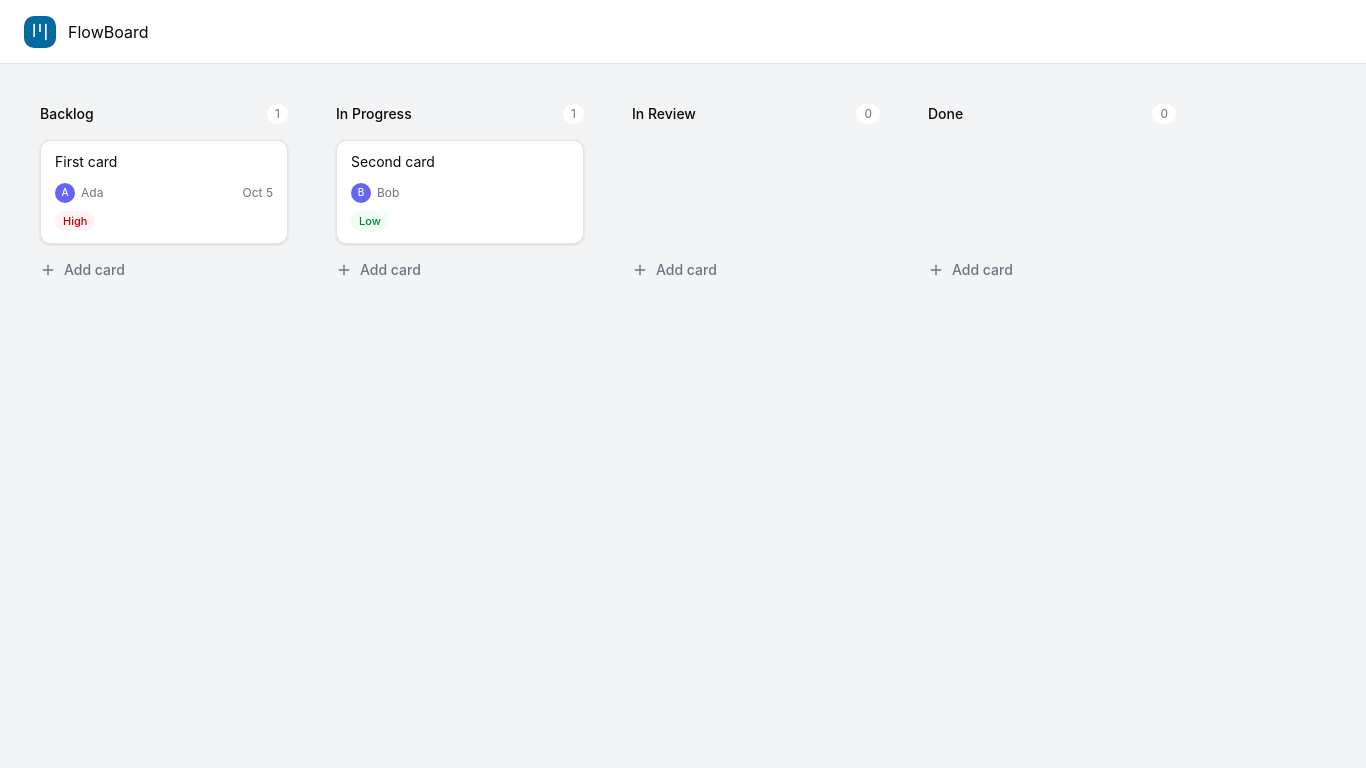
it: App - save card (regression: rollback on failure) › rolls back the edit and shows an error banner when updateCard fails
Click the text "First card" at coordinates (86, 162), box [55,153,118,170]
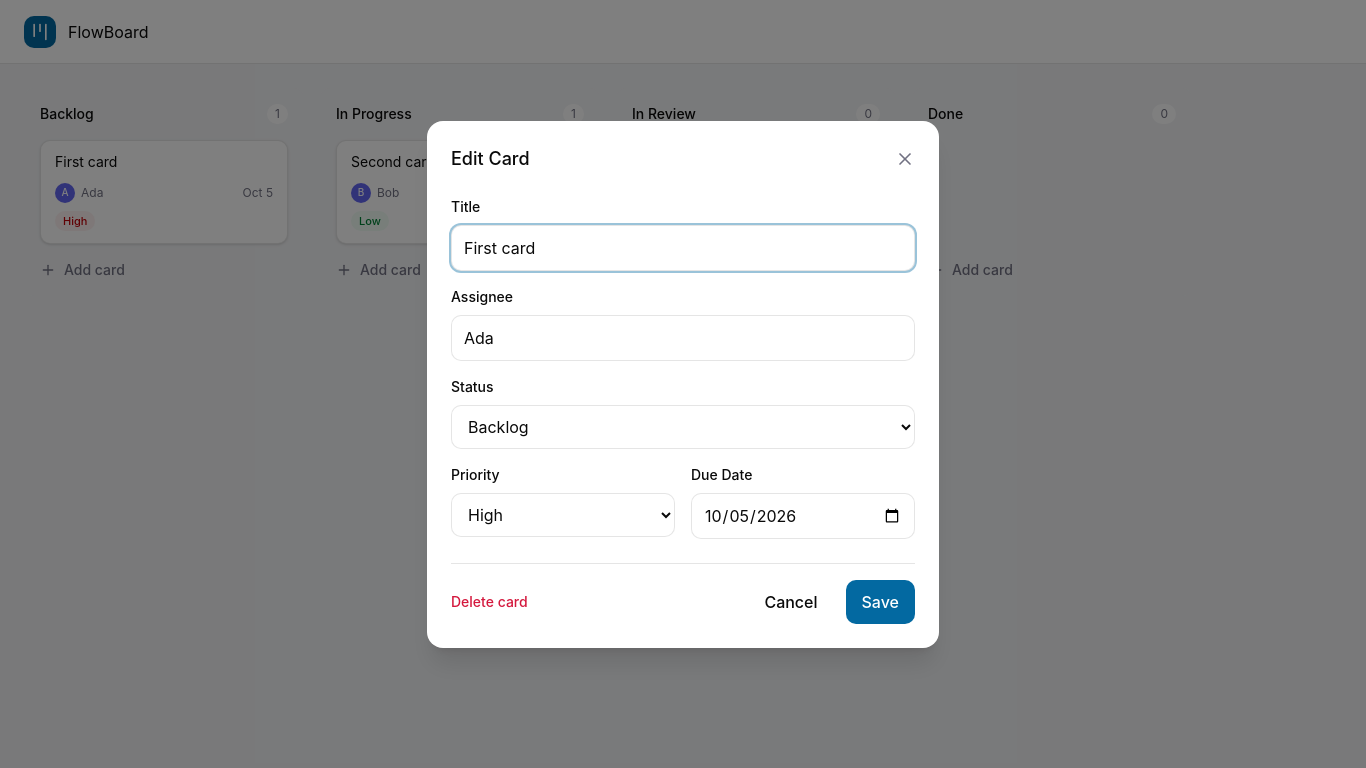
Replace the text in the field with placeholder "Enter card title..." with "Updated title" at coordinates (683, 248), box [451,224,915,270]
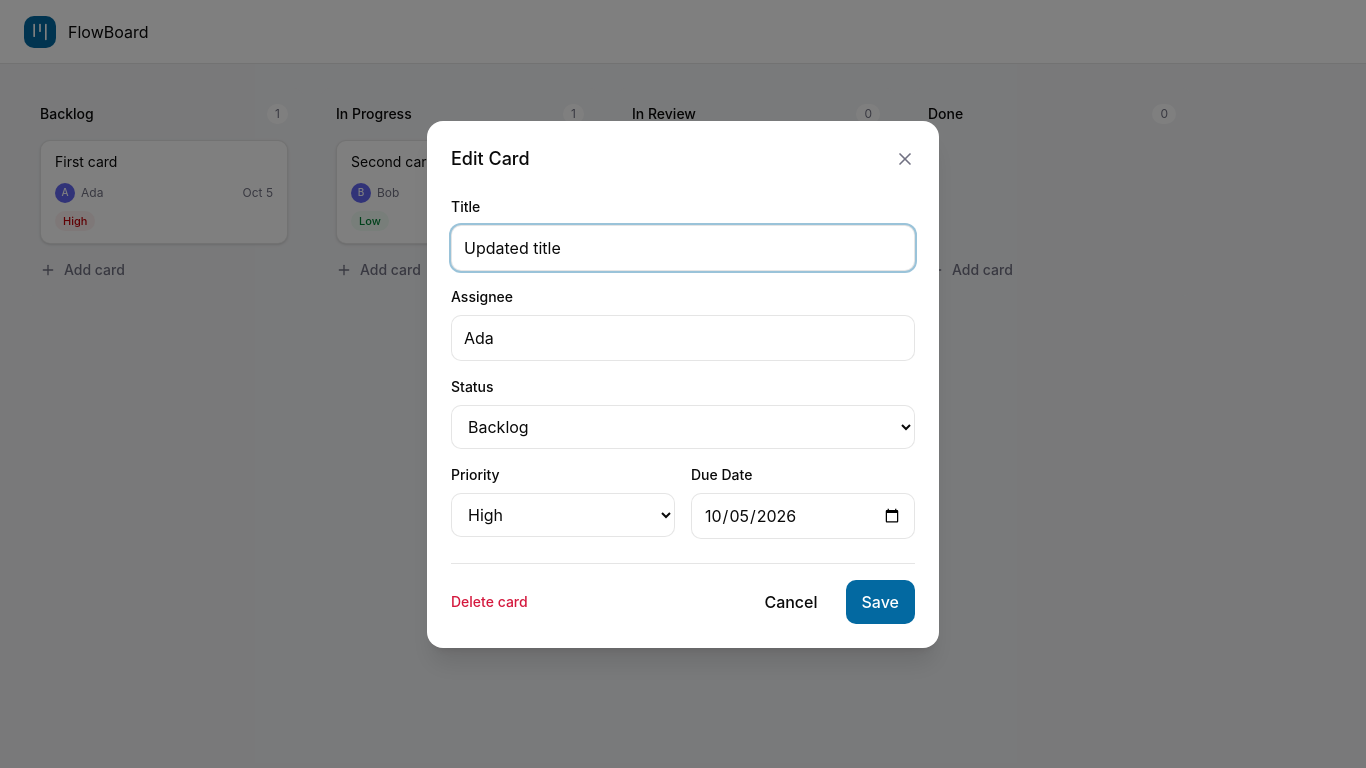
Click the button "Save" at coordinates (880, 602), box [846,580,915,624]
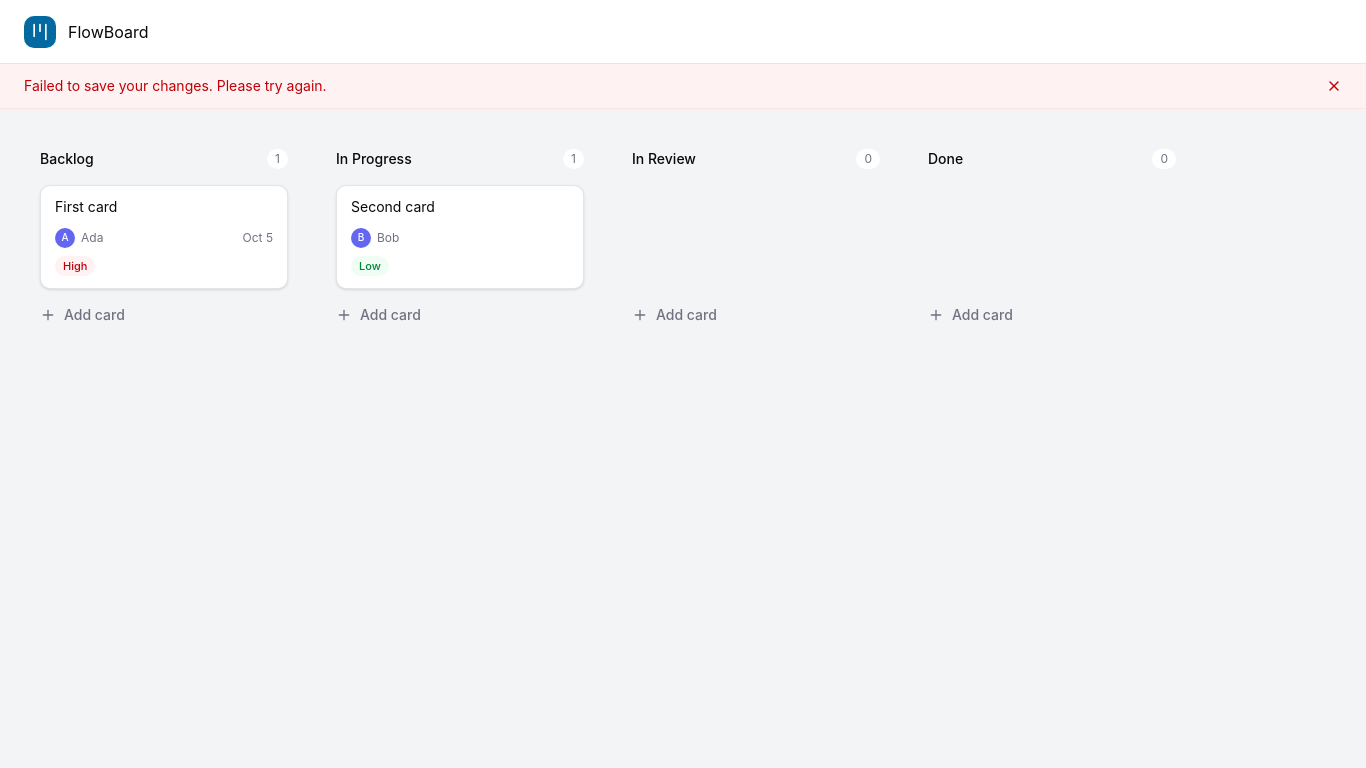
Expected: the text "First card" is shown, [55,198,118,215]
Result: the text "Failed to save your changes. Please try again." is shown at [24,76,327,96]
Result: the field "Updated title" is gone
